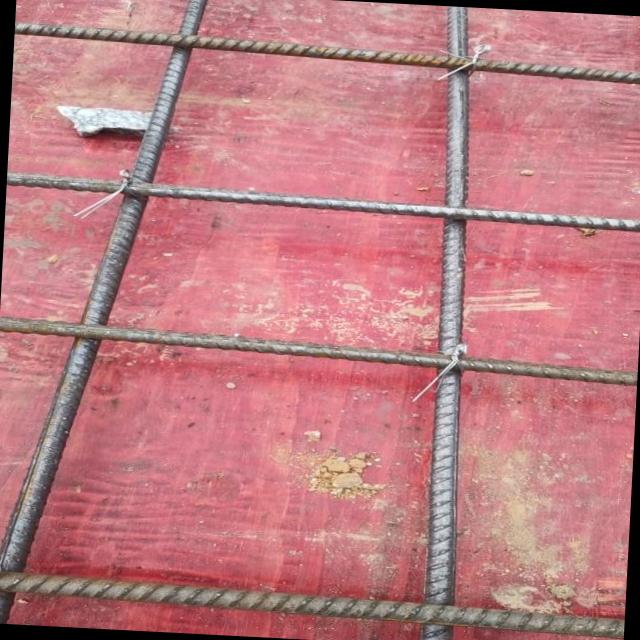ribbed bar: (0, 0, 211, 632), (0, 314, 638, 387), (413, 6, 485, 640), (0, 569, 624, 639), (13, 21, 640, 86), (5, 171, 640, 232)
